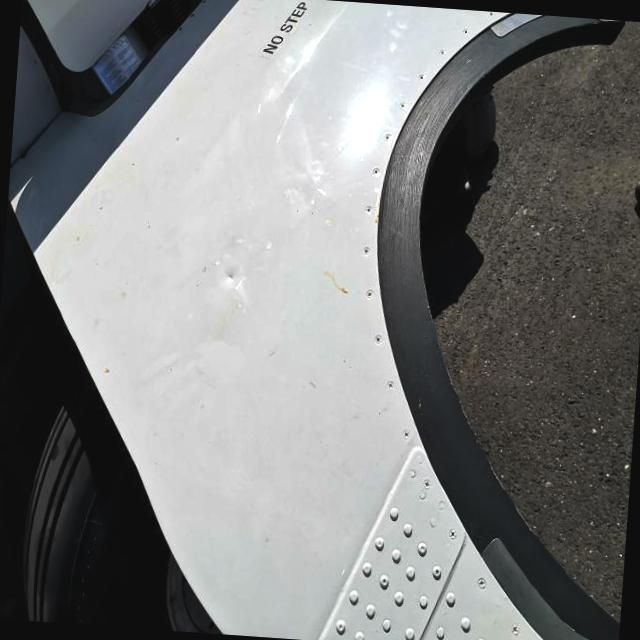dent: (196, 233, 264, 314)
